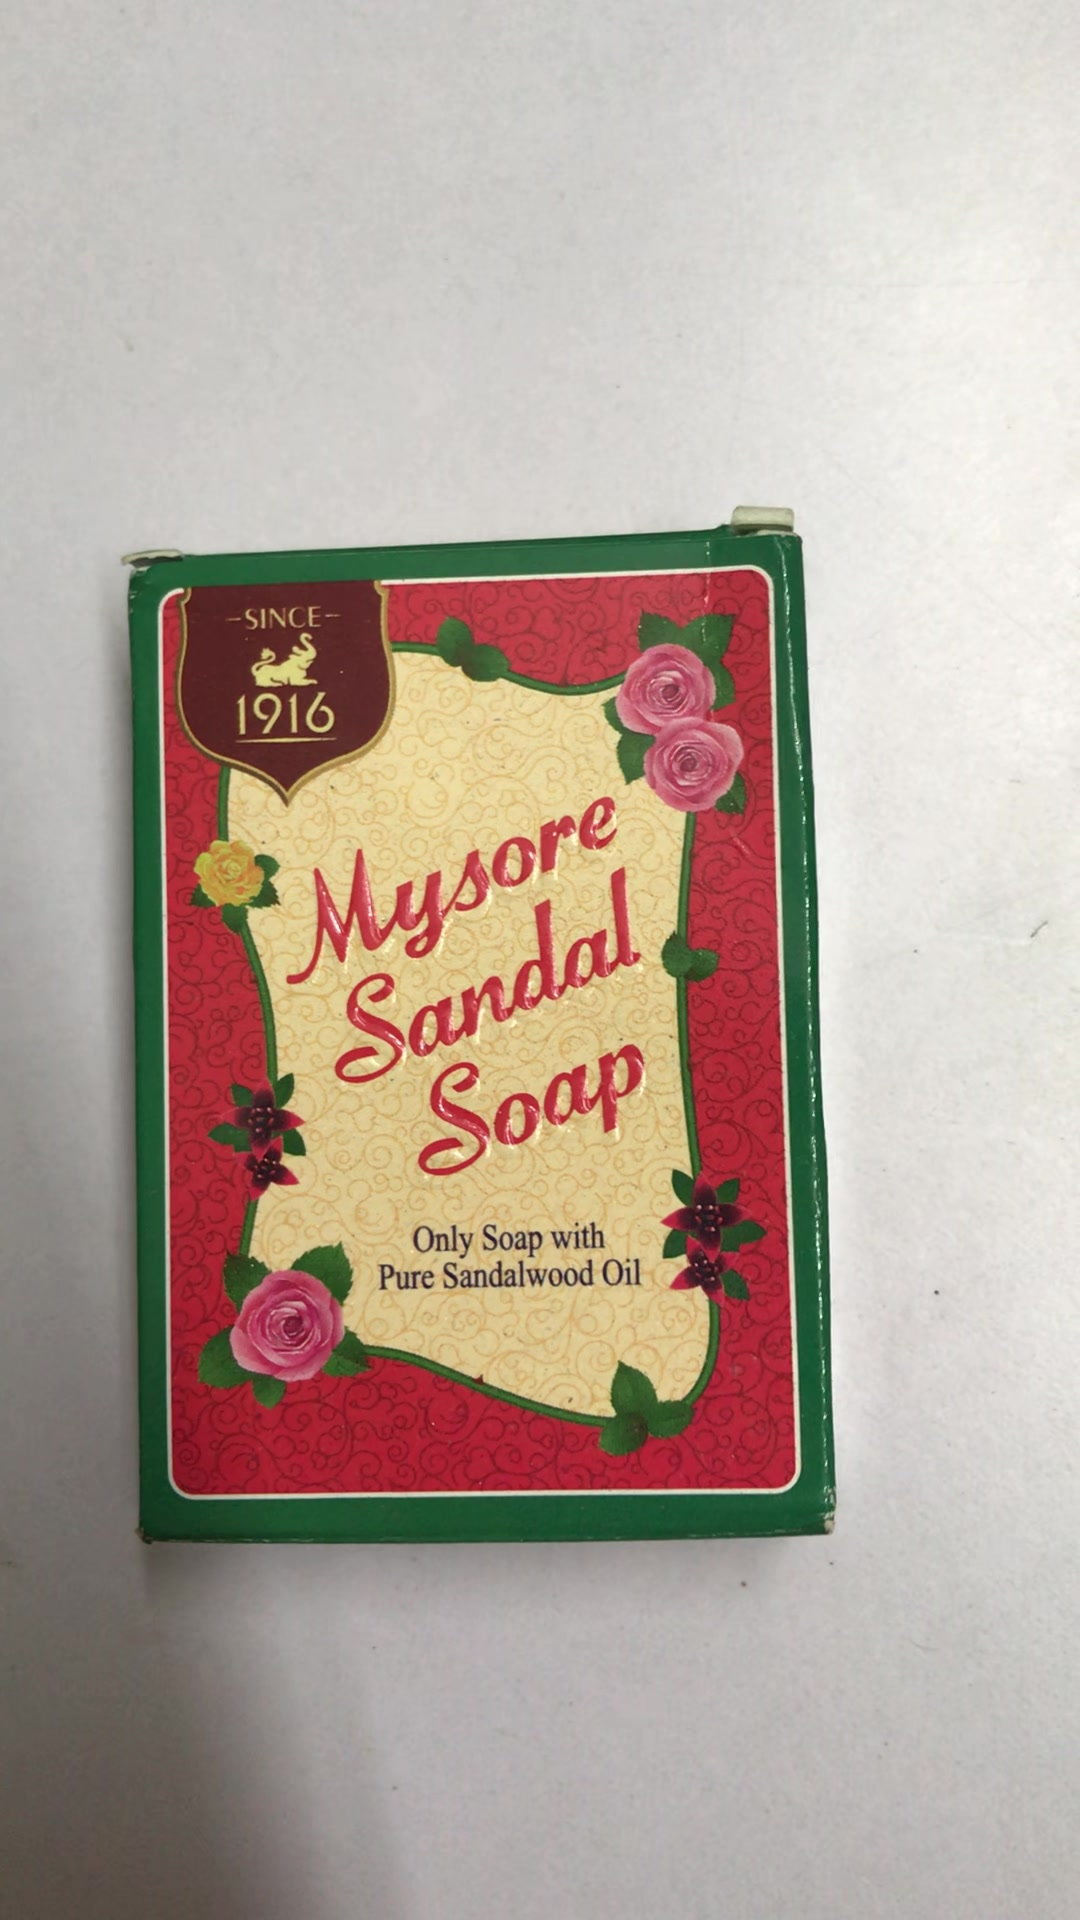mysore sandal soap: (136, 549, 833, 1538)
